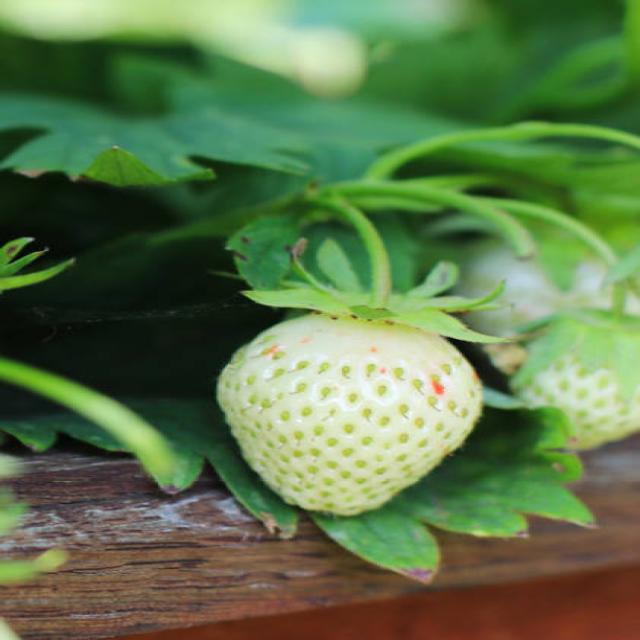Healthy Fruit: (217, 319, 479, 514)
